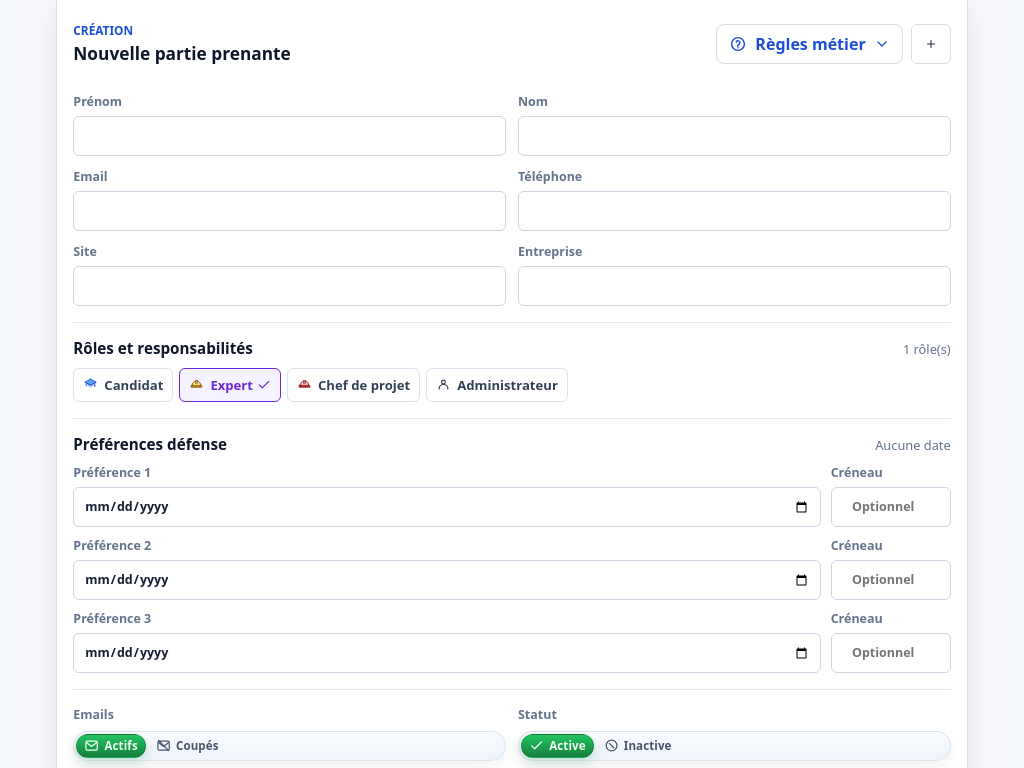
it: PartiesPrenantes › affiche le bloc Lu-Ve uniquement quand le rôle chef de projet est sélectionné
The image size is (1024, 768).
(page scrolled)
Check: the heading "Rôles et responsabilités" is shown, box [73,339,253,358]
Check: the heading "Disponibilité Lu-Ve" is not shown
Click the button "Chef de projet" at (354, 385), box [287,368,420,402]
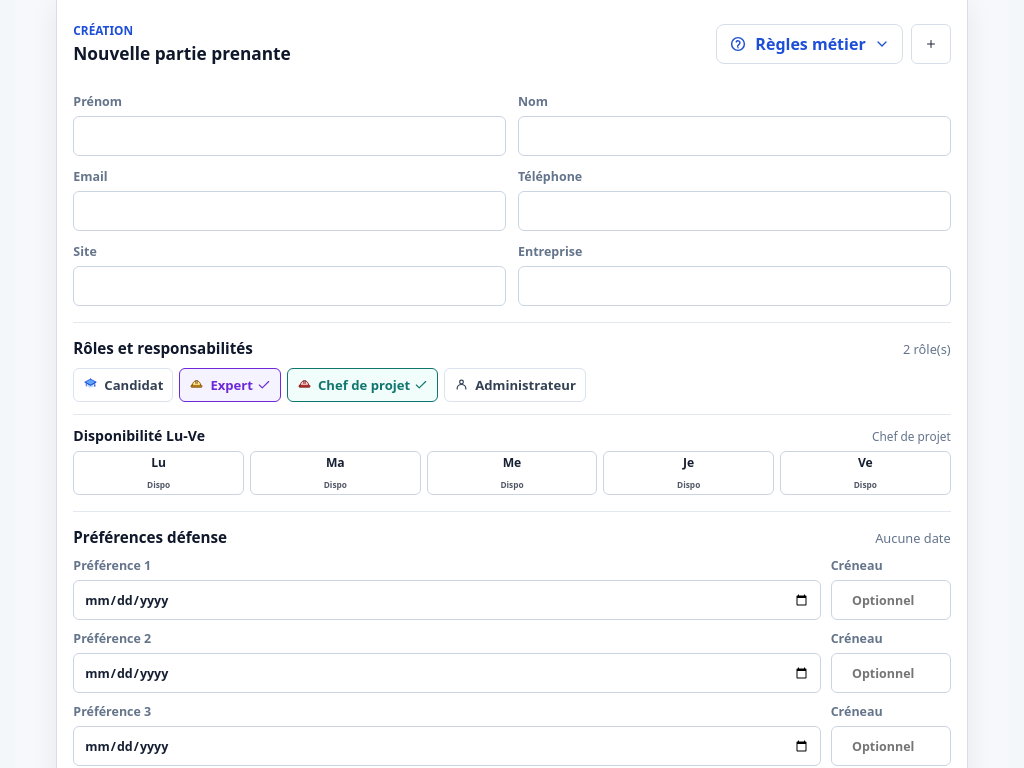
Check: the heading "Disponibilité Lu-Ve" is shown, box [73,427,205,444]
Click the button "Chef de projet" at (363, 385), box [287,368,438,402]
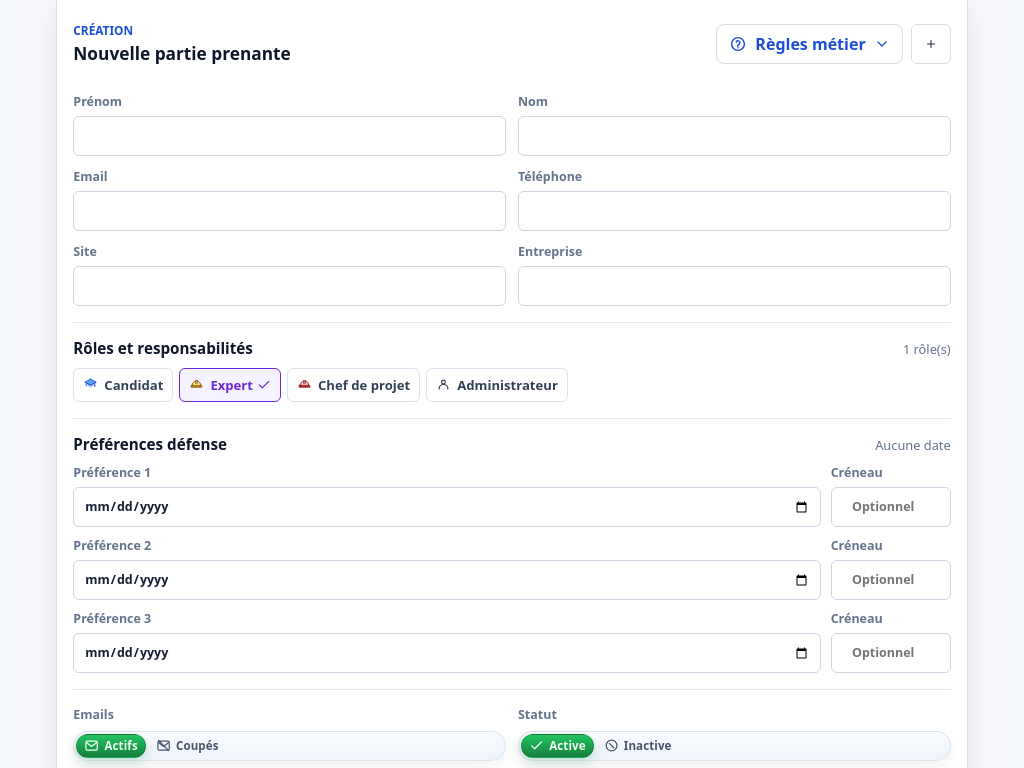
Check: the heading "Disponibilité Lu-Ve" is gone
